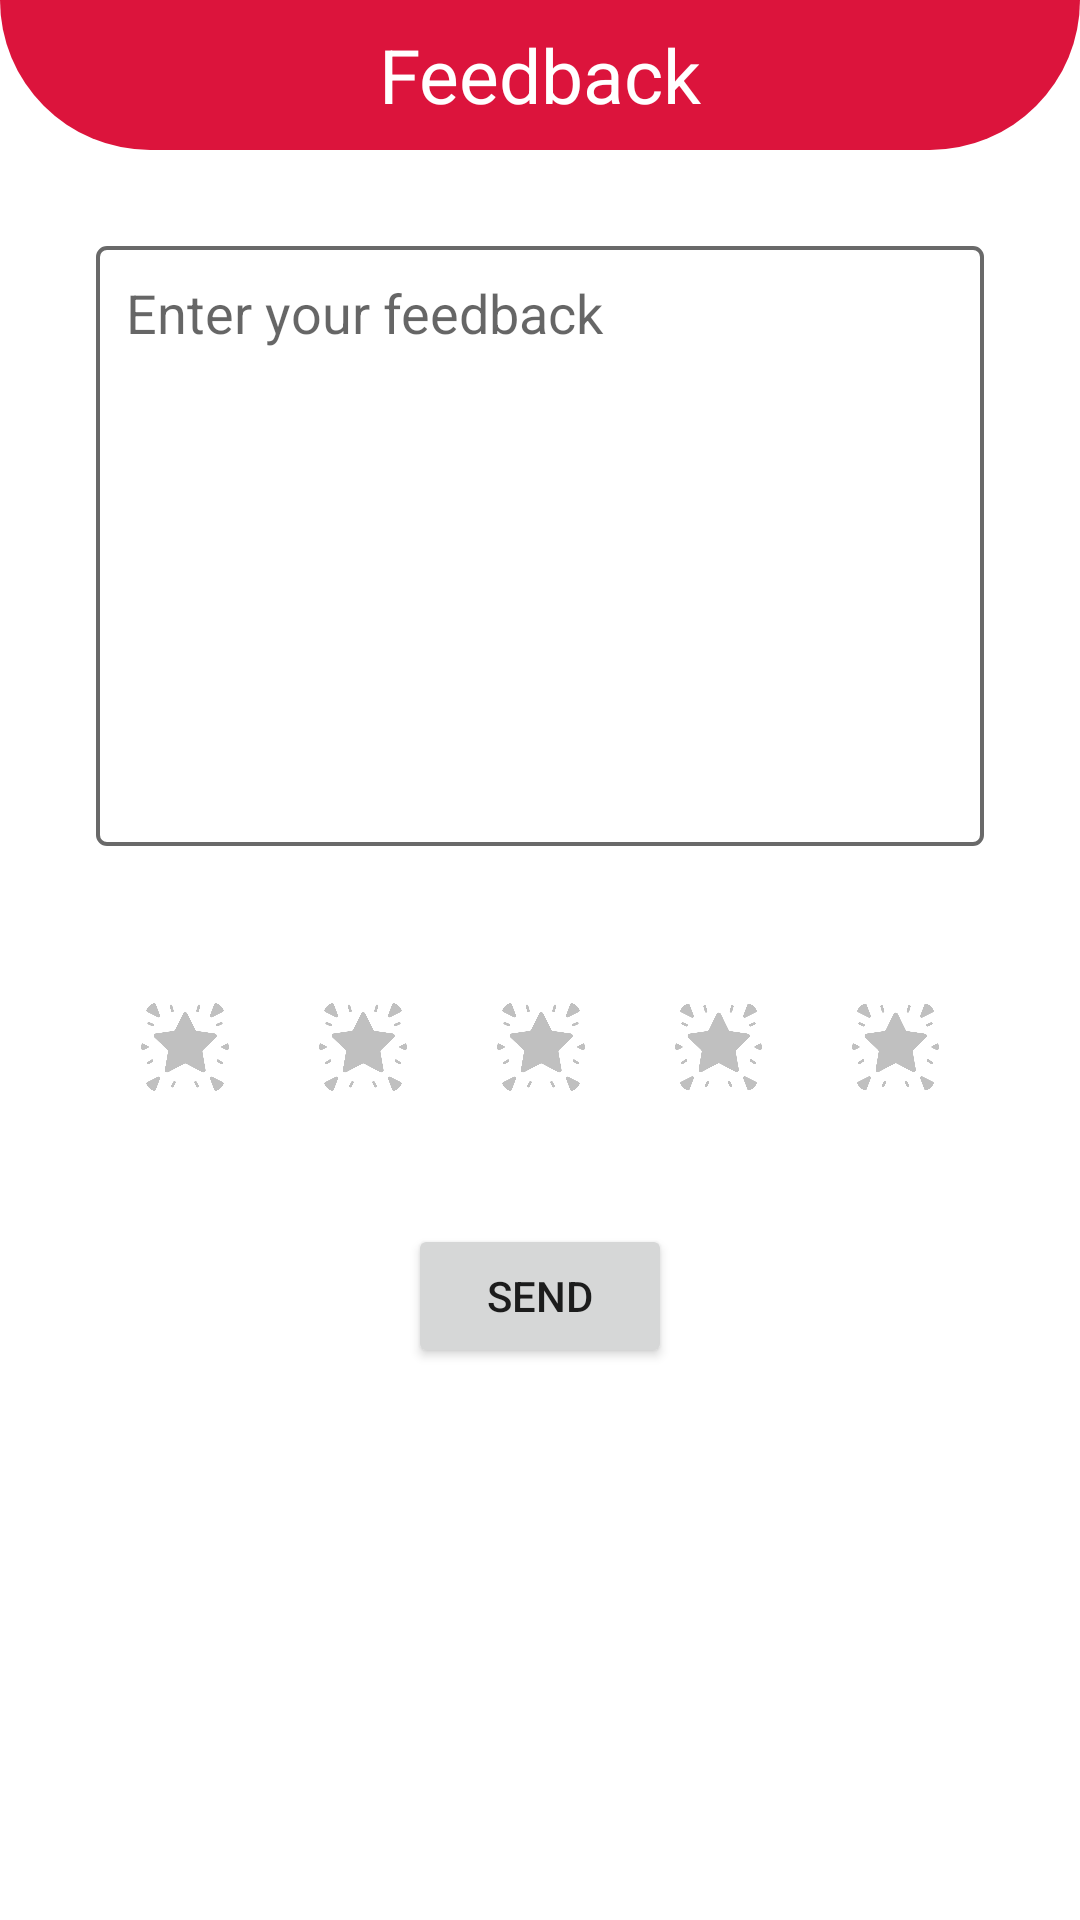

Point at icon controls on the screen. Image size 1080 x 1920, points as (x=x, y=y).
excellence: (x=185, y=1047), (x=363, y=1047), (x=541, y=1047), (x=718, y=1047), (x=895, y=1047)
